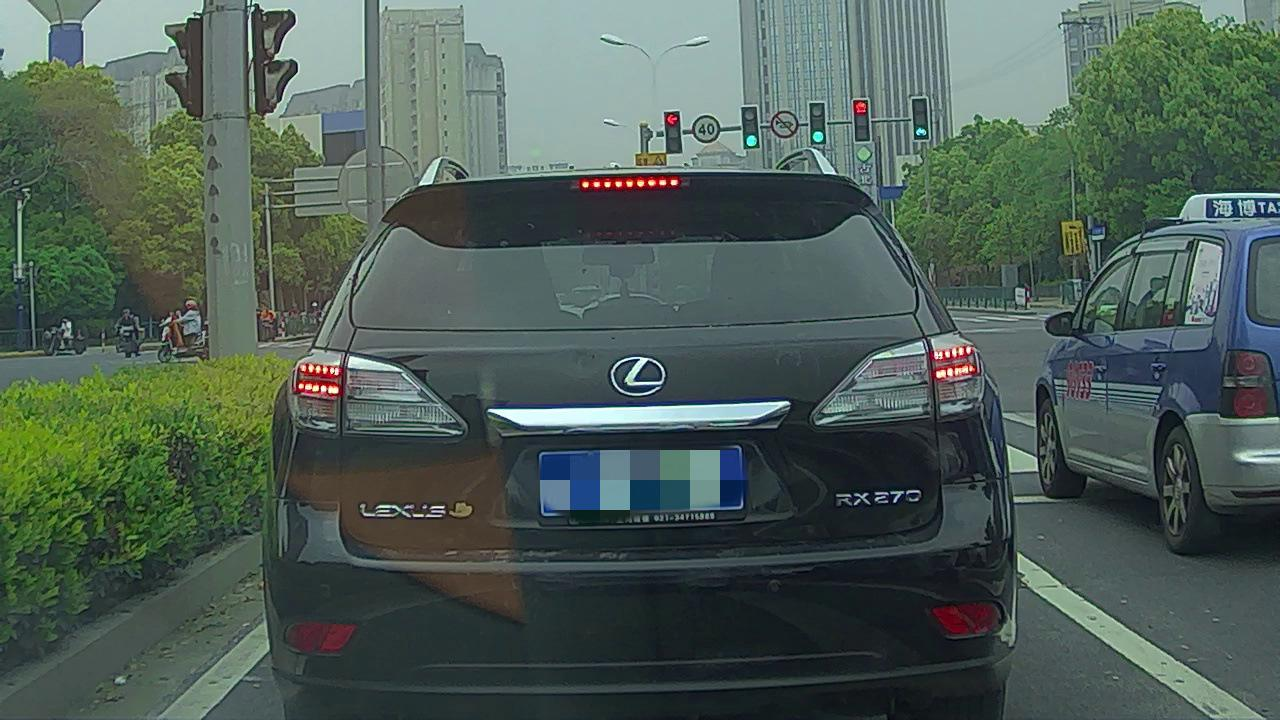traffic_light: (853, 98, 871, 143), (809, 101, 827, 144), (742, 106, 760, 148), (664, 110, 681, 154), (913, 97, 929, 141)
